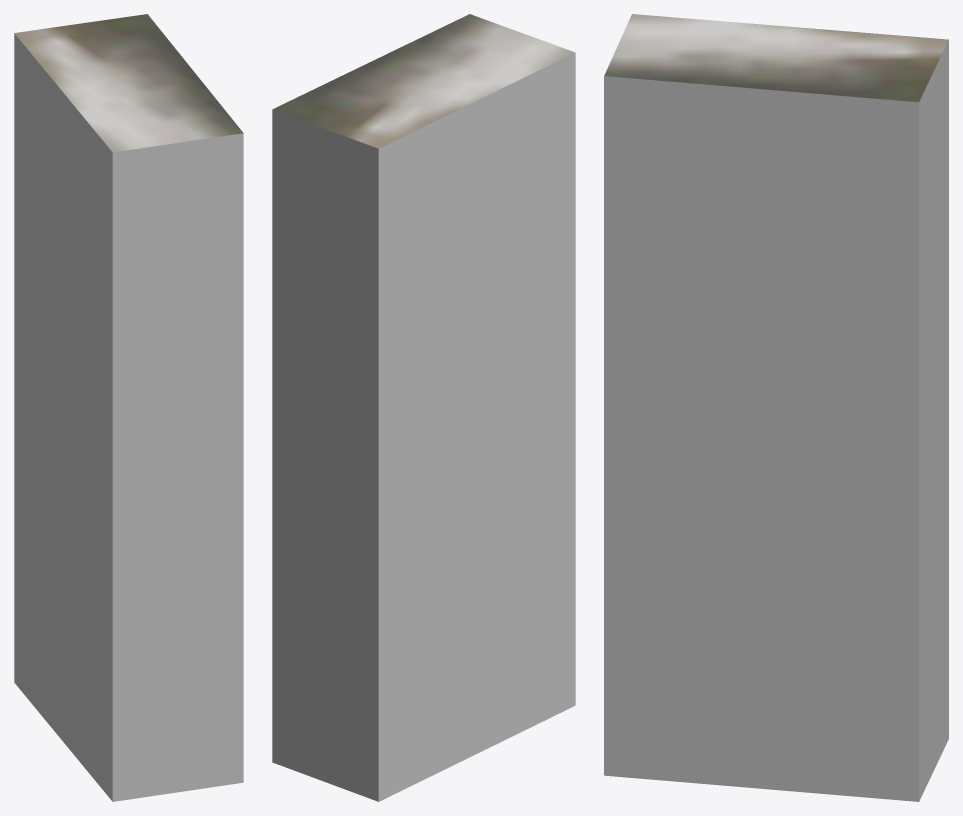
The model's file is DEBW_0010007THXq.gltf.
3 views of the same model, side by side, from view 1: azimuth 30°, elevation 25°; view 2: azimuth 150°, elevation 25°; view 3: azimuth 270°, elevation 25° (orthographic). The views are drawn at different scales.
Visible parts, largest first — view 1: Z_UP; view 2: Z_UP; view 3: Z_UP.
Boxes of the visible parts, left/top/right/bottom form: Z_UP: left=14, top=14, right=243, bottom=801; Z_UP: left=272, top=14, right=575, bottom=801; Z_UP: left=604, top=14, right=948, bottom=801.
Size of the model in its own units: 2.25 by 8.31 by 3.71.
2 materials, 1 textured.
